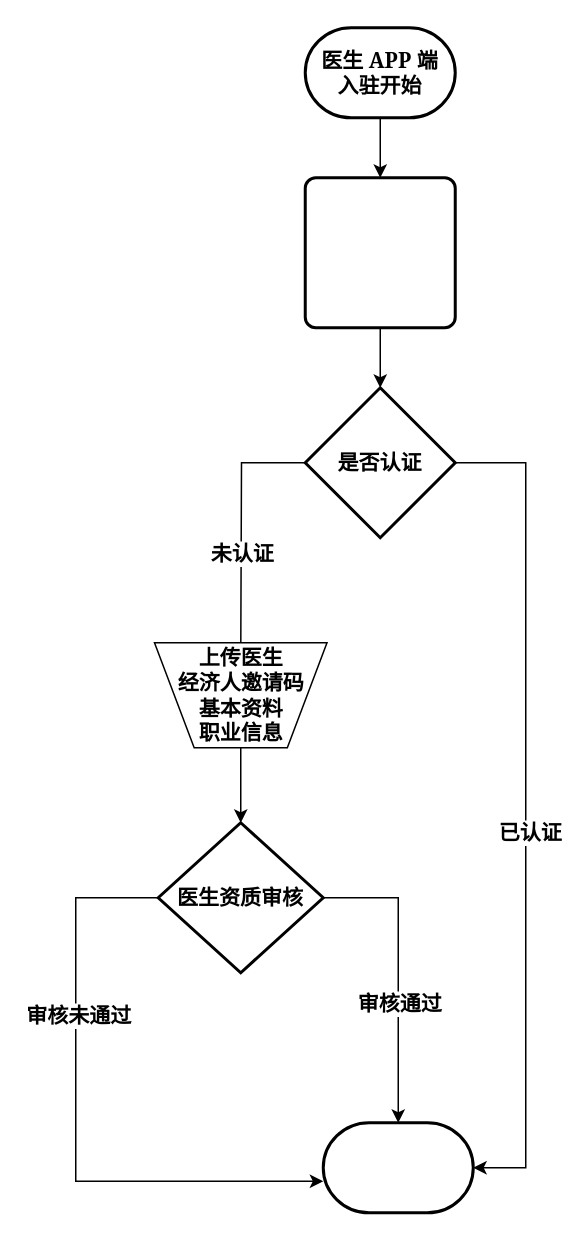
Image size: 587x1239. Some labels were removed from this diagram. Each missing label, with the centre of its shape:
"医生APP端 入驻结束" goes at point 397,1167.
"短信验证码 登录&注册" goes at point 379,252.
